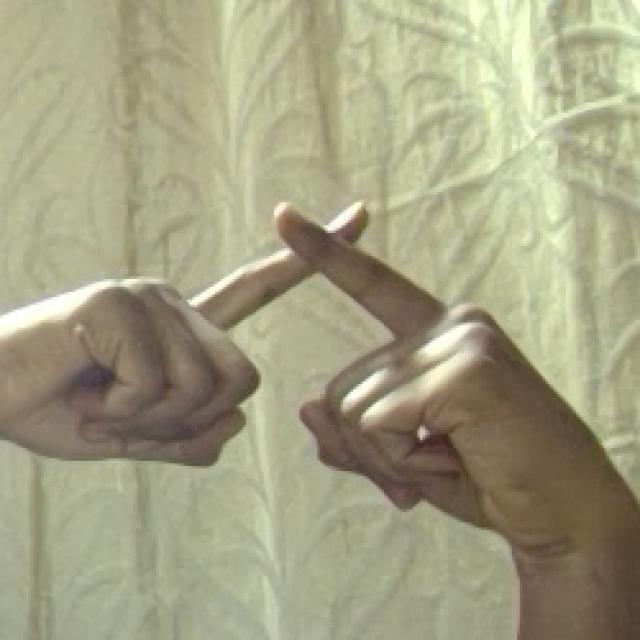Alphabet-X: (8, 173, 563, 556)
